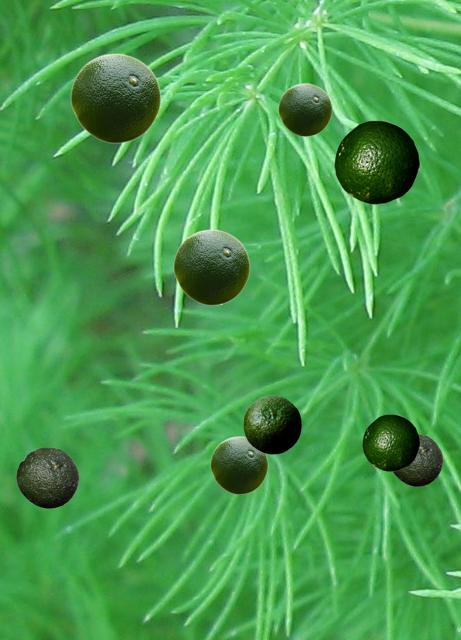calamansi: (70, 53, 160, 142), (334, 120, 419, 203), (173, 229, 249, 304), (16, 447, 78, 507), (243, 395, 300, 453), (210, 436, 267, 493), (362, 414, 419, 470), (278, 83, 331, 135), (392, 434, 442, 485)
